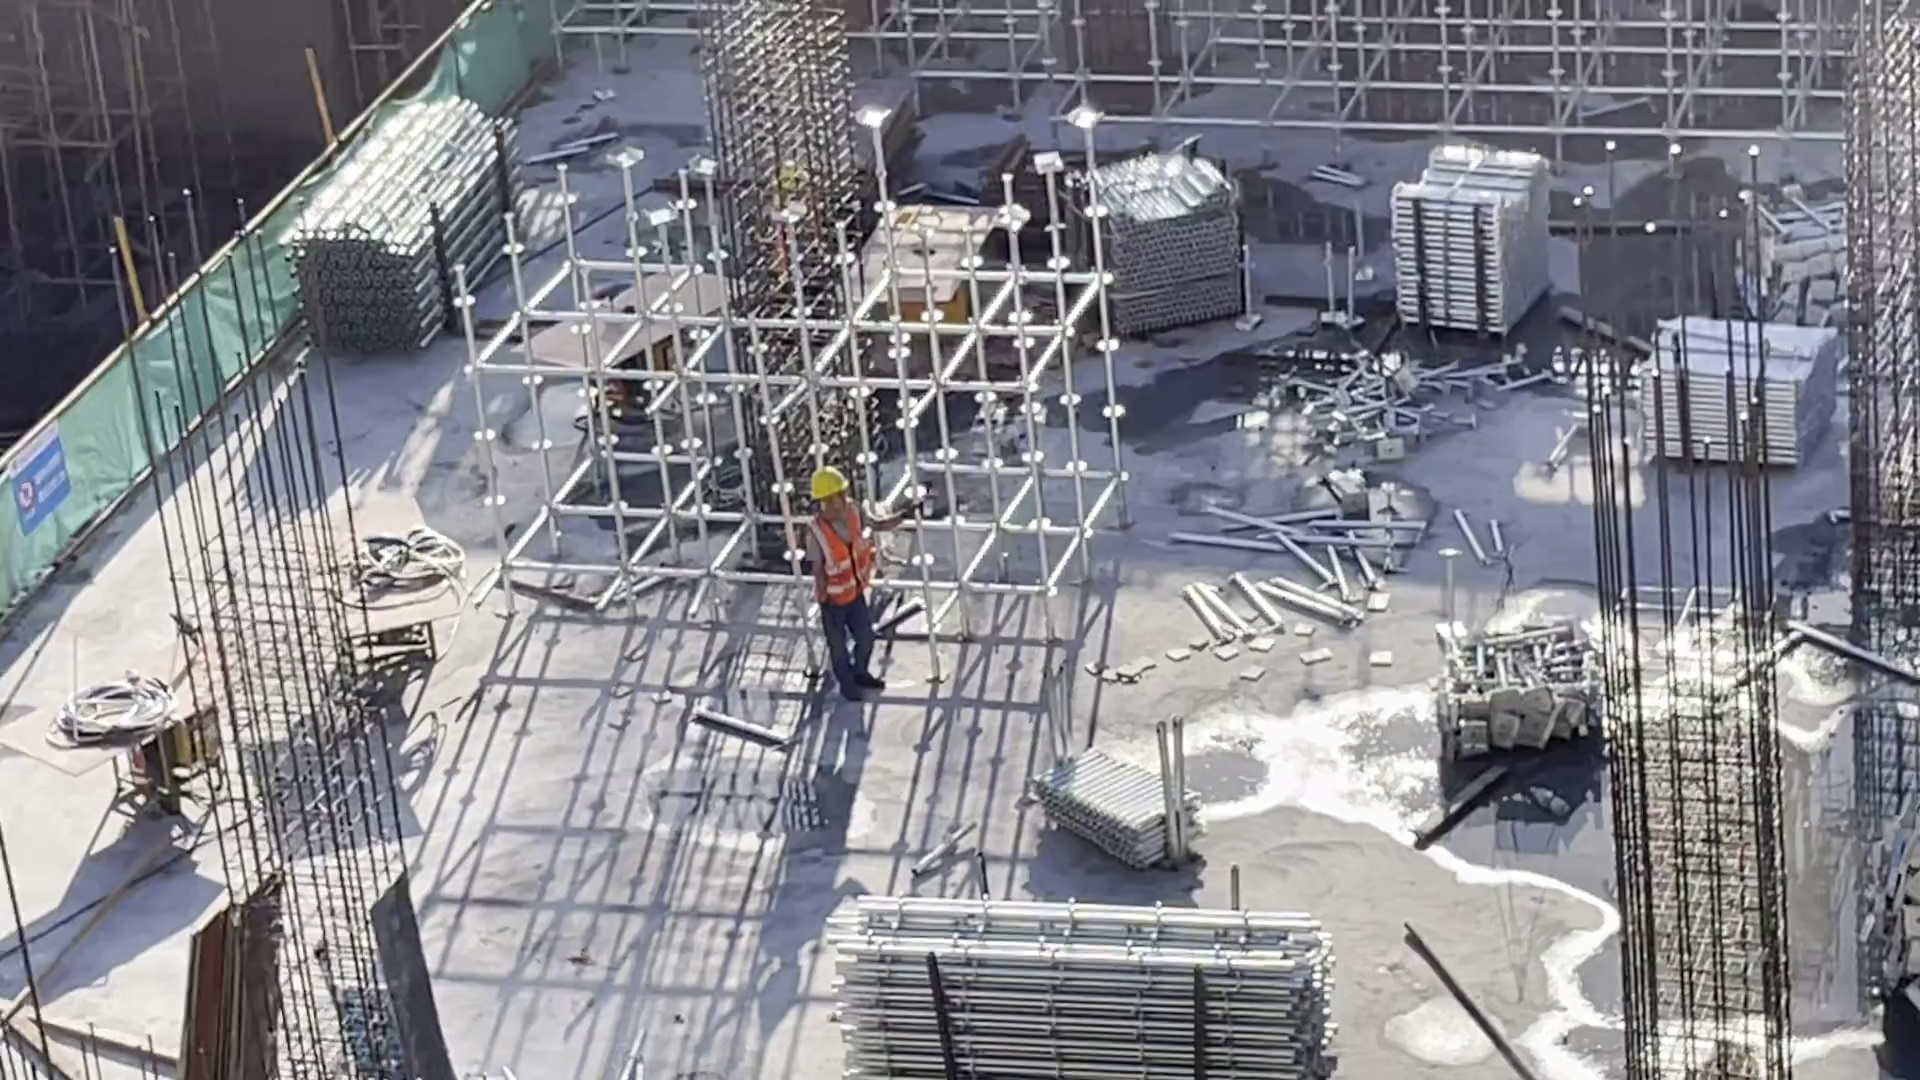board: (166, 880, 299, 1080)
cutter: (8, 632, 289, 827), (259, 489, 462, 702), (511, 267, 754, 441), (803, 201, 1003, 352)
helmet: (803, 469, 852, 508)
person: (800, 463, 893, 686)
scaffold: (834, 890, 1329, 1080), (294, 85, 537, 330), (1400, 133, 1564, 350), (1643, 311, 1821, 479), (1076, 154, 1242, 332), (1753, 187, 1920, 337), (1290, 341, 1486, 451), (1040, 741, 1218, 859), (1438, 628, 1594, 760)
slogan: (3, 408, 77, 546)
vest: (810, 497, 875, 601)
